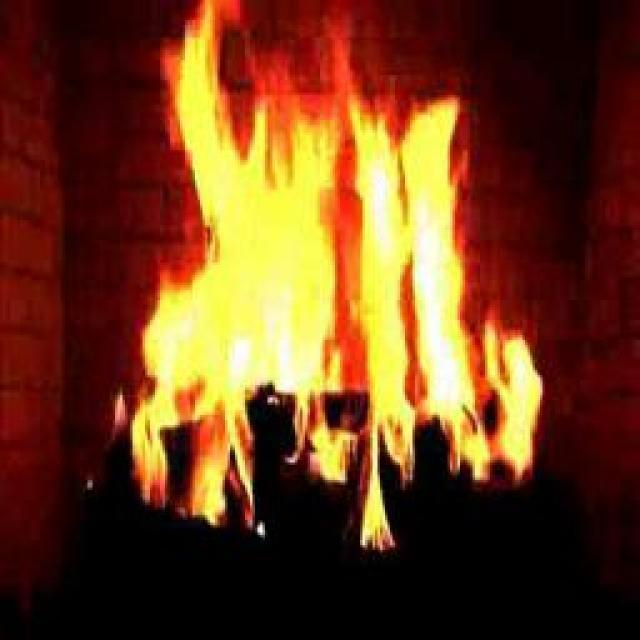Fire: (157, 37, 528, 458)
